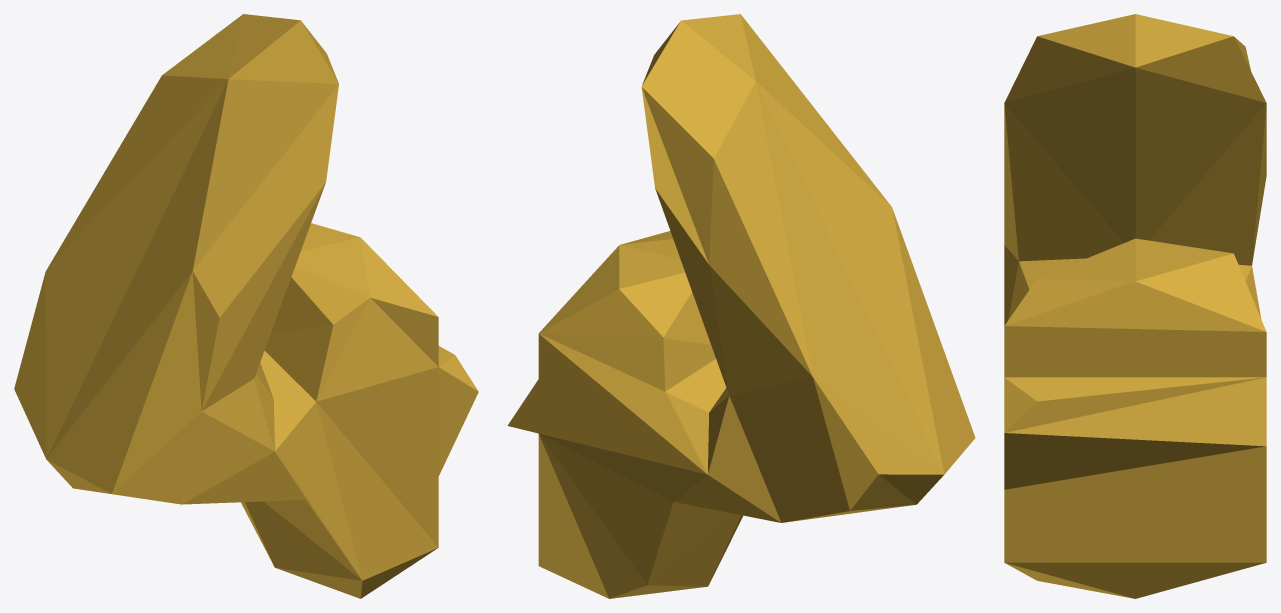
3 views of the same model, side by side, from view 1: azimuth 30°, elevation 25°; view 2: azimuth 150°, elevation 25°; view 3: azimuth 270°, elevation 25° (orthographic). The views are drawn at different scales.
Parts seen in each view (by area): view 1: 4_0057D0_0; view 2: 4_0057D0_0; view 3: 4_0057D0_0.
Part boxes in pixels (x1,y1,x2,y2): 4_0057D0_0: (14,14,478,598); 4_0057D0_0: (507,14,975,598); 4_0057D0_0: (1004,14,1266,598).
Bounding box in the file's own units: 49.98 × 70.79 × 30.
